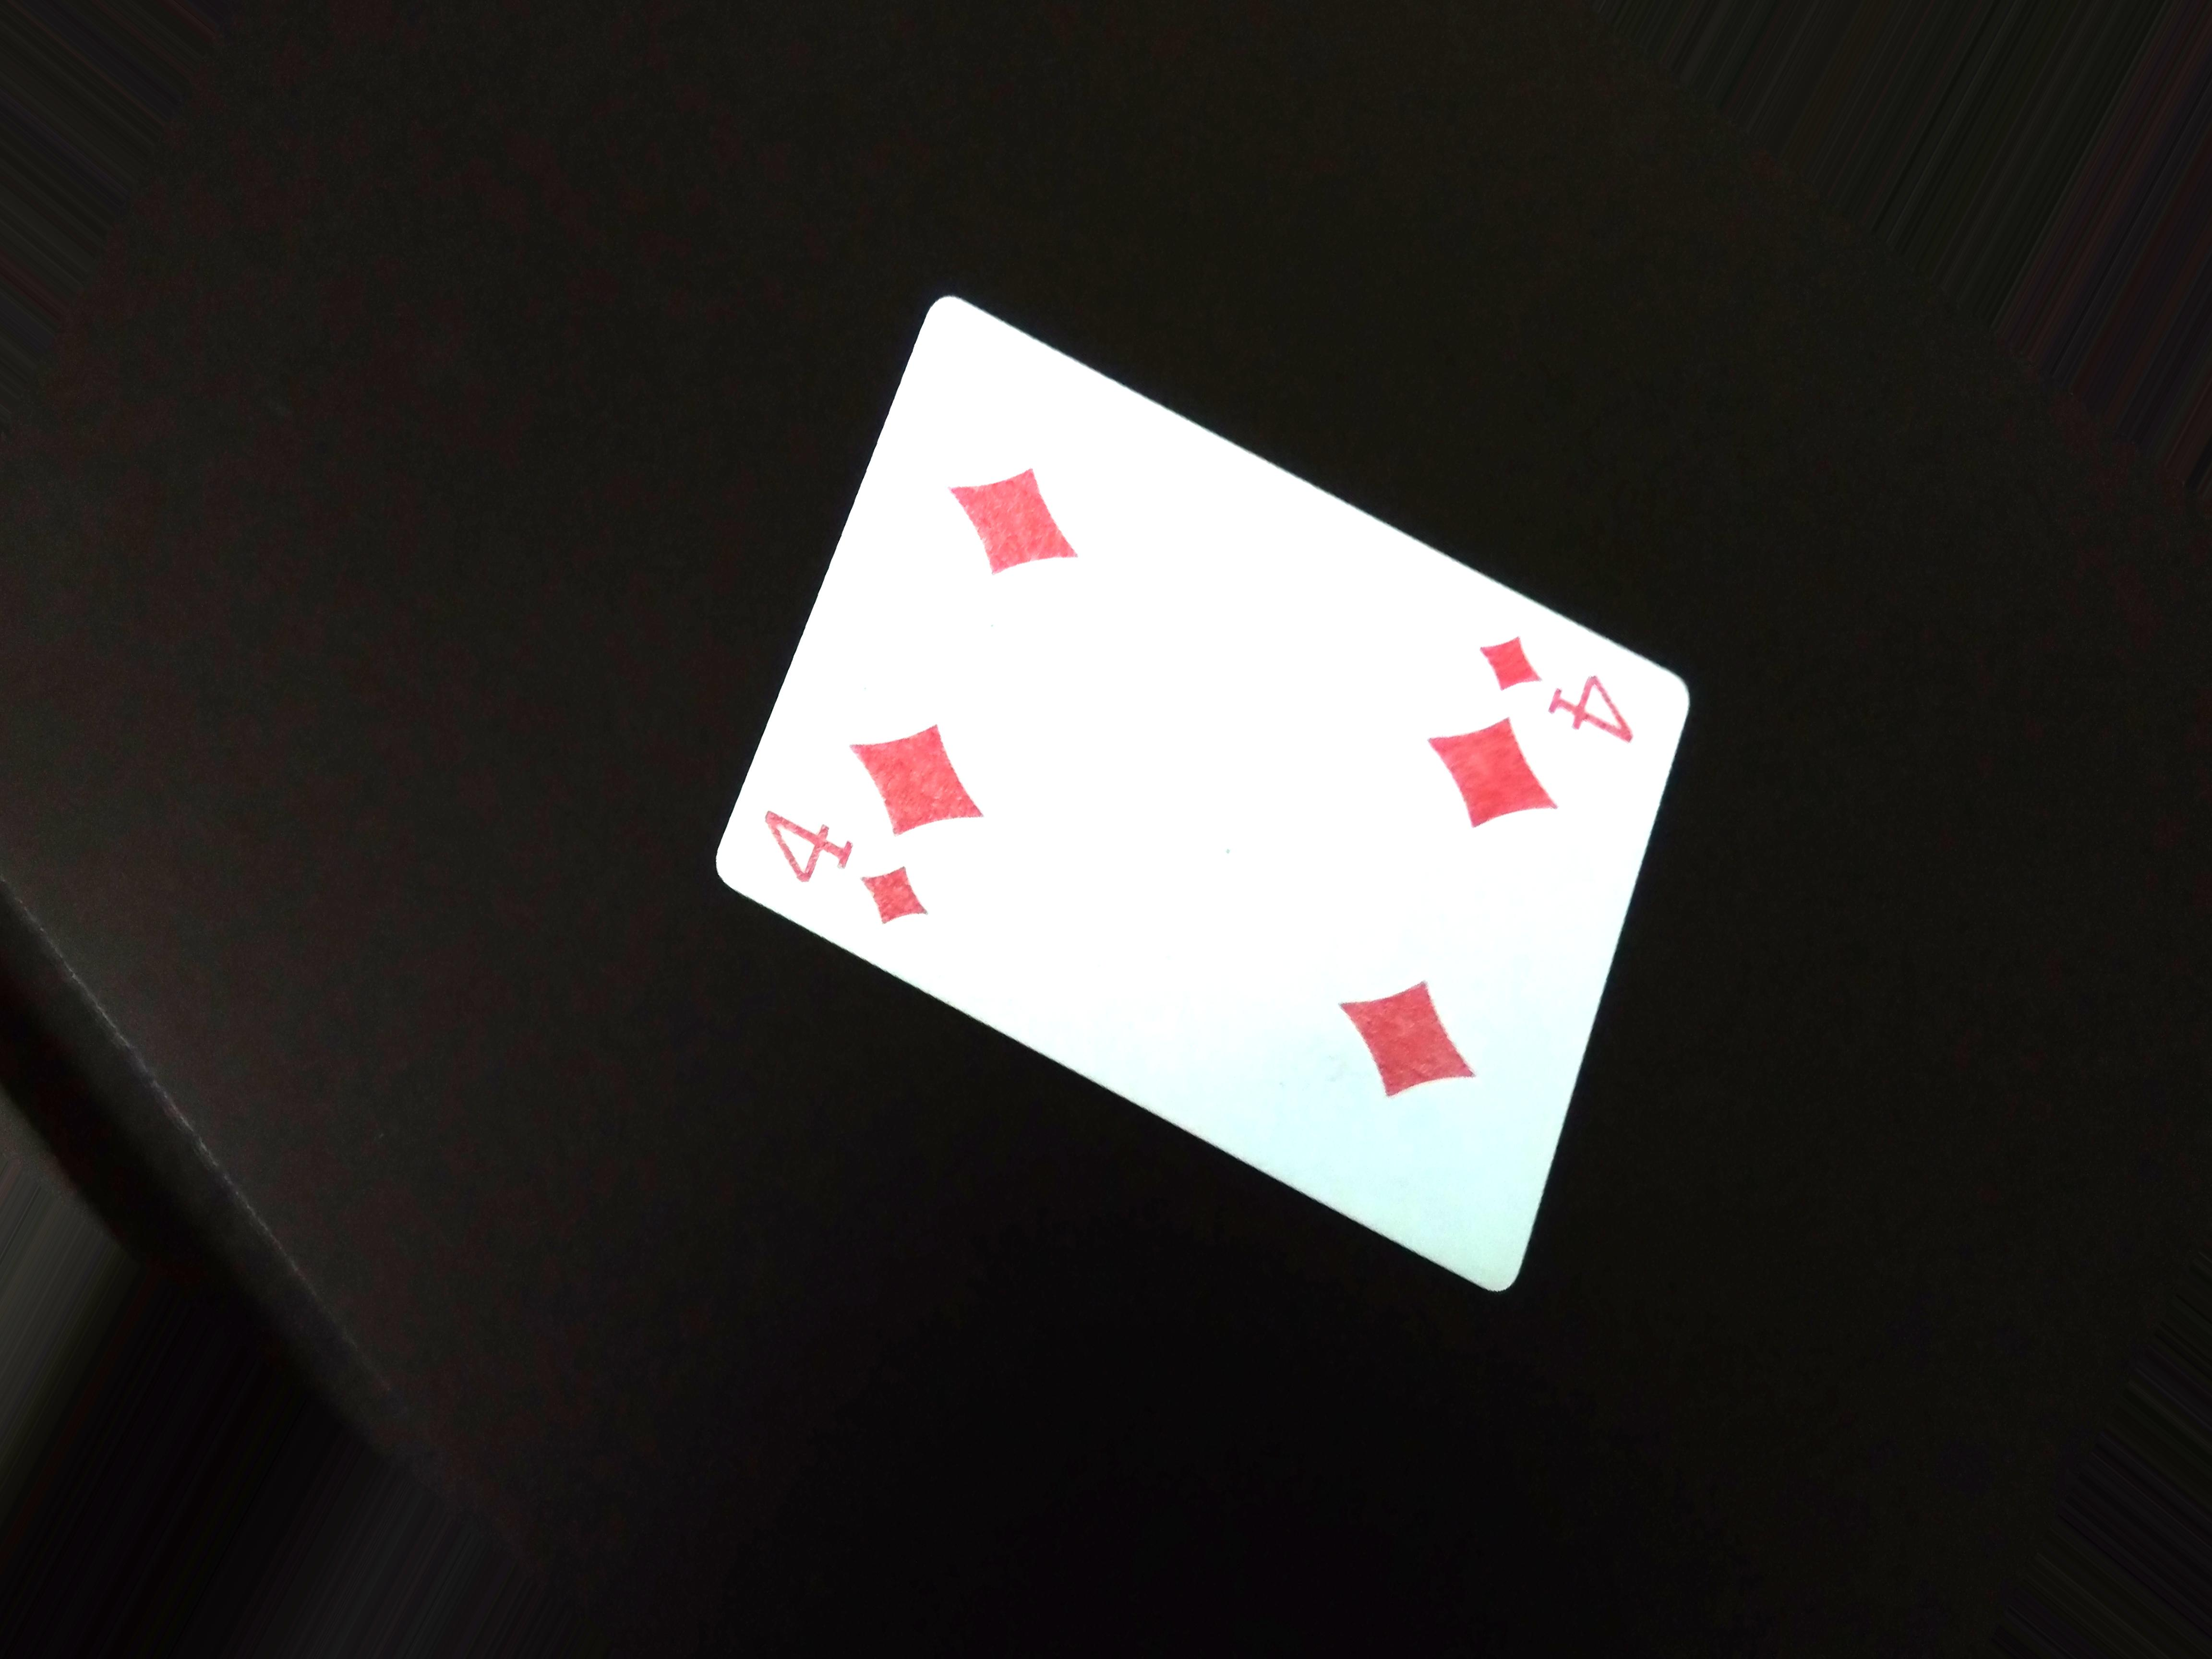4D: (751, 789, 939, 936)
